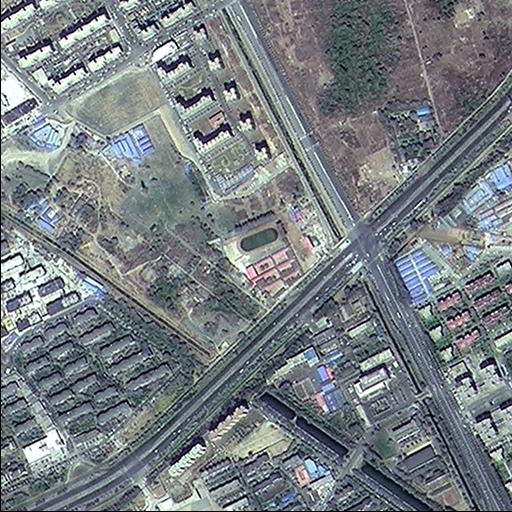school: (208, 211, 305, 301)
